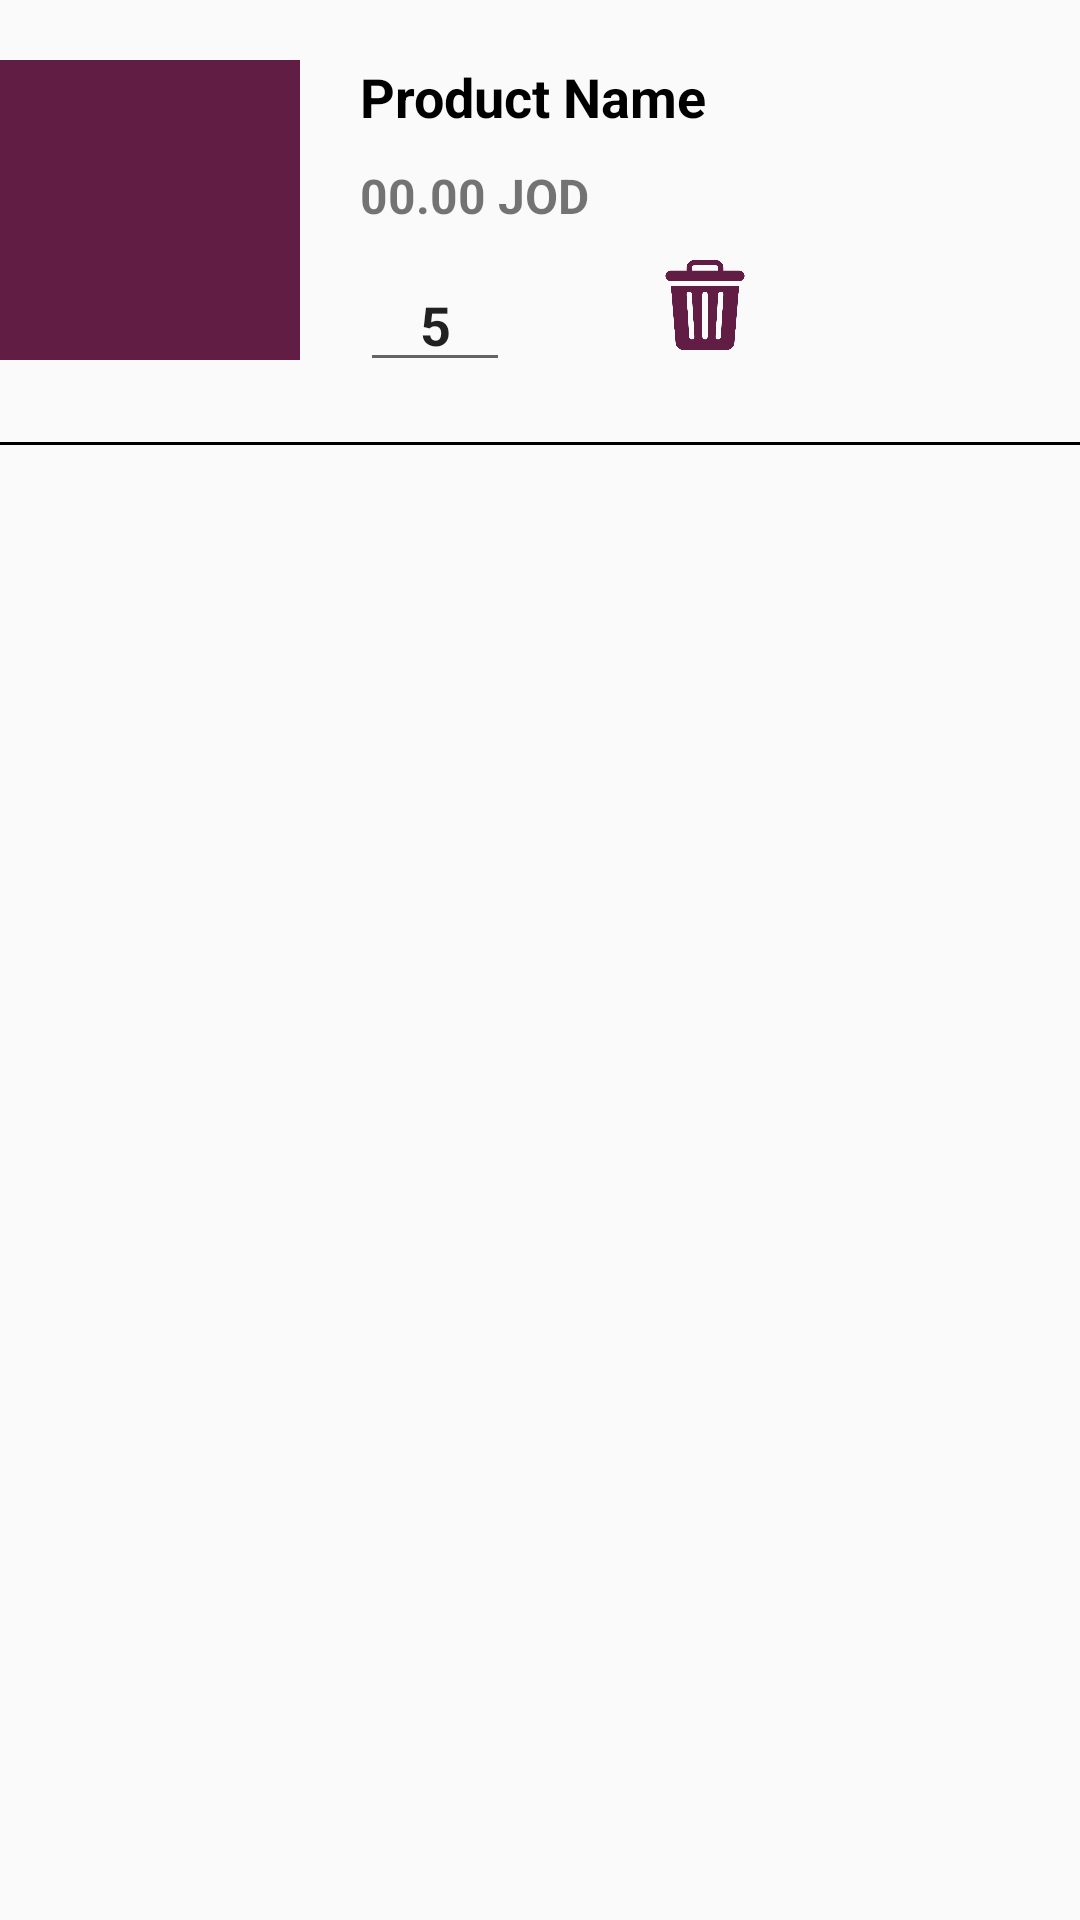

Screen size 1080px×1920px. Icon name, then its box in pixels as [x1, y1, x2, y2]:
delete: [665, 260, 745, 350]
